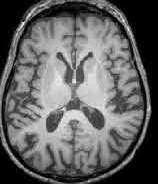Normal_Brain: (1, 1, 158, 184)
